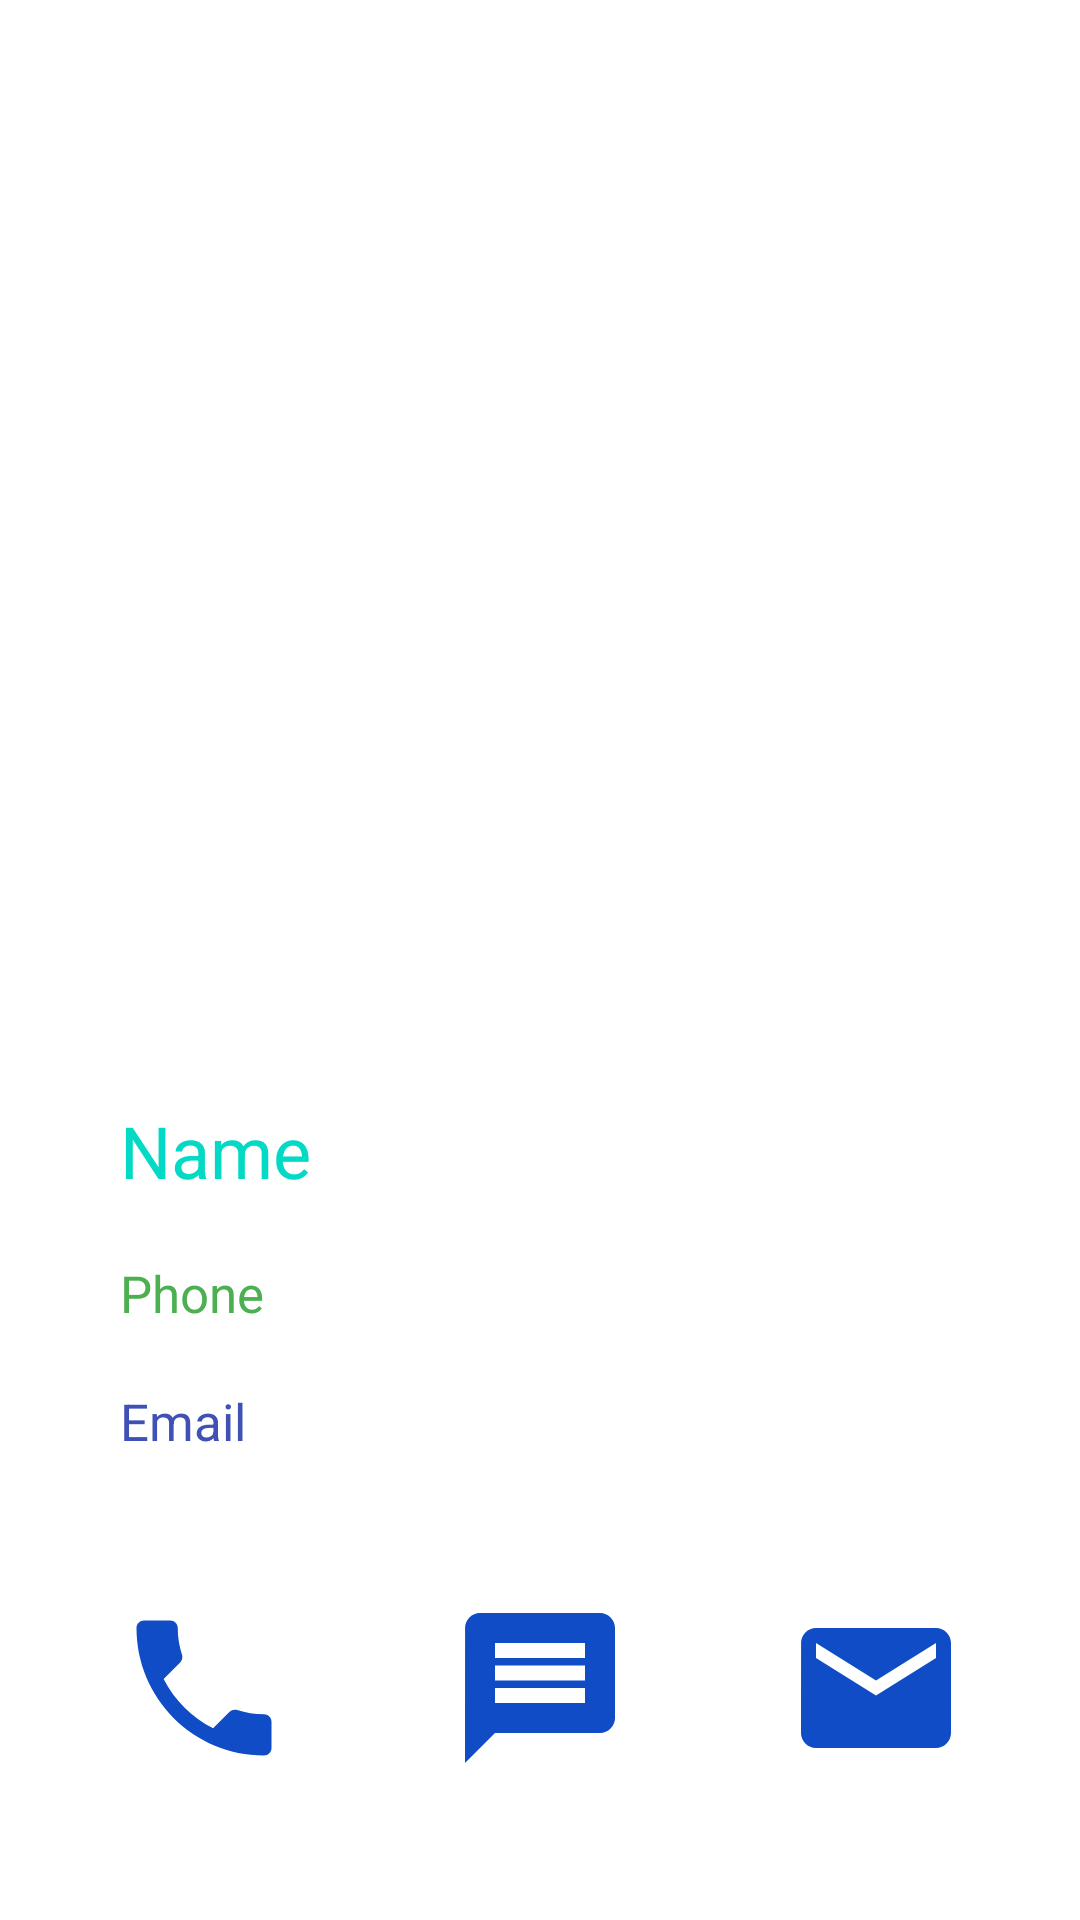

Point at icon controls on the screen. Image size 1080×1920, points as point (x, y).
email: point (876, 1688)
message: point (540, 1688)
phone: point (204, 1688)
